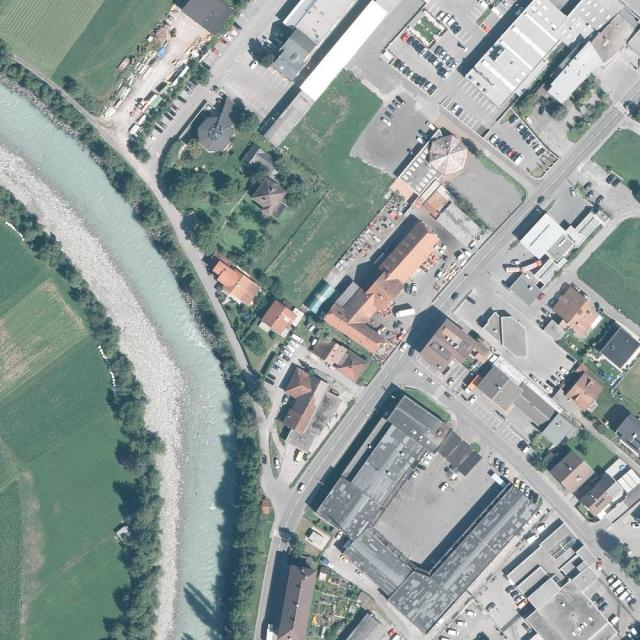agricultural_land: (0, 221, 128, 640), (49, 0, 174, 110)
building: (483, 180, 605, 306), (430, 484, 539, 601), (470, 359, 579, 461), (243, 0, 356, 87), (298, 0, 389, 102), (543, 13, 638, 107), (349, 423, 428, 509), (418, 318, 492, 389), (343, 526, 414, 597), (284, 386, 349, 459), (387, 566, 456, 634), (268, 365, 332, 437), (316, 478, 385, 544), (199, 249, 265, 314), (576, 457, 640, 521), (551, 0, 624, 55), (386, 395, 452, 454), (386, 229, 443, 290), (322, 302, 386, 355), (482, 306, 540, 361), (378, 219, 431, 276), (263, 90, 315, 148), (311, 332, 370, 383), (421, 128, 476, 182), (328, 282, 380, 334), (397, 147, 445, 196), (433, 430, 481, 478), (247, 175, 294, 223), (361, 268, 406, 314), (197, 97, 233, 152), (181, 0, 234, 36), (564, 372, 607, 415), (257, 299, 298, 341), (564, 299, 605, 340), (240, 143, 282, 182), (549, 284, 588, 324), (227, 274, 264, 311), (353, 589, 389, 627), (560, 461, 596, 495), (501, 315, 527, 357), (616, 414, 640, 457), (303, 524, 332, 551)
dryland: (86, 3, 213, 129)
greenland: (15, 29, 344, 640), (142, 50, 435, 333), (124, 75, 193, 147), (591, 121, 640, 202), (226, 297, 272, 360), (565, 424, 617, 475), (56, 72, 108, 118), (583, 315, 621, 355), (123, 126, 152, 166), (189, 58, 212, 85)
metalled_road: (130, 152, 260, 370), (273, 366, 394, 530), (426, 177, 556, 324), (524, 100, 640, 200), (393, 345, 470, 409), (345, 41, 411, 107), (399, 301, 448, 353), (171, 115, 199, 140), (390, 347, 407, 372), (620, 204, 640, 219), (404, 344, 410, 351)
unmetalled_road: (14, 52, 87, 113)
